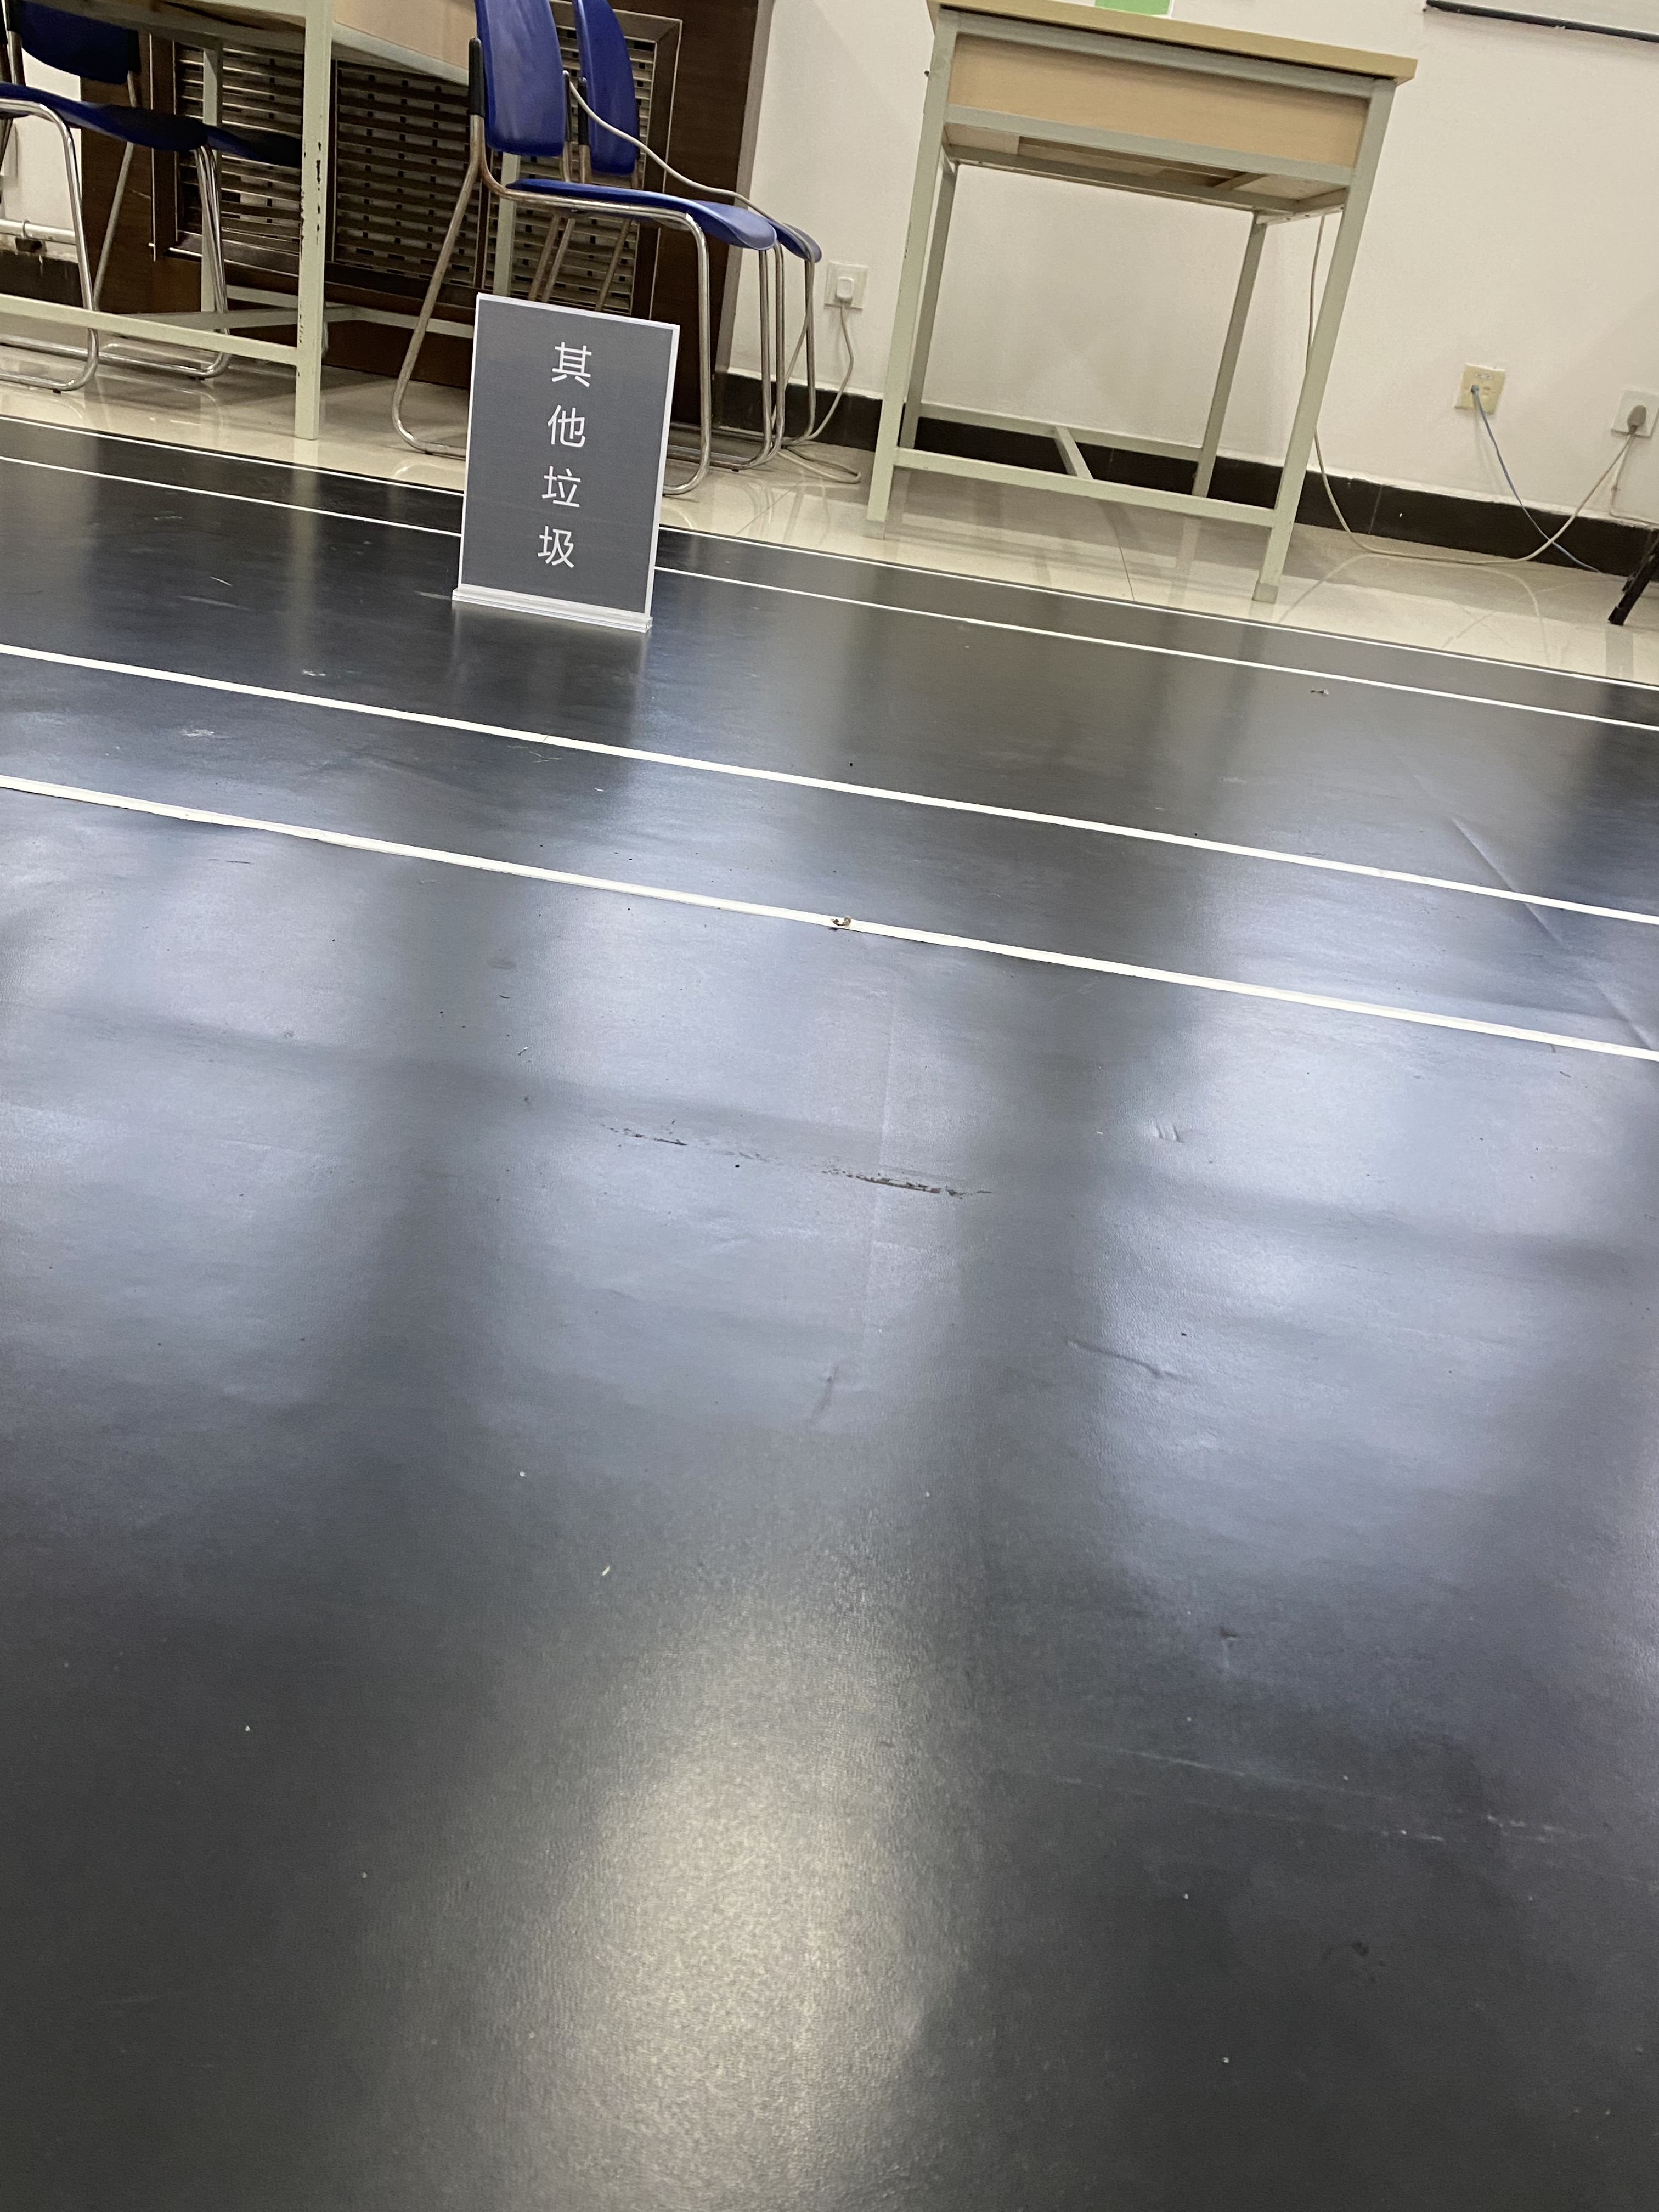black: (488, 296, 641, 592)
